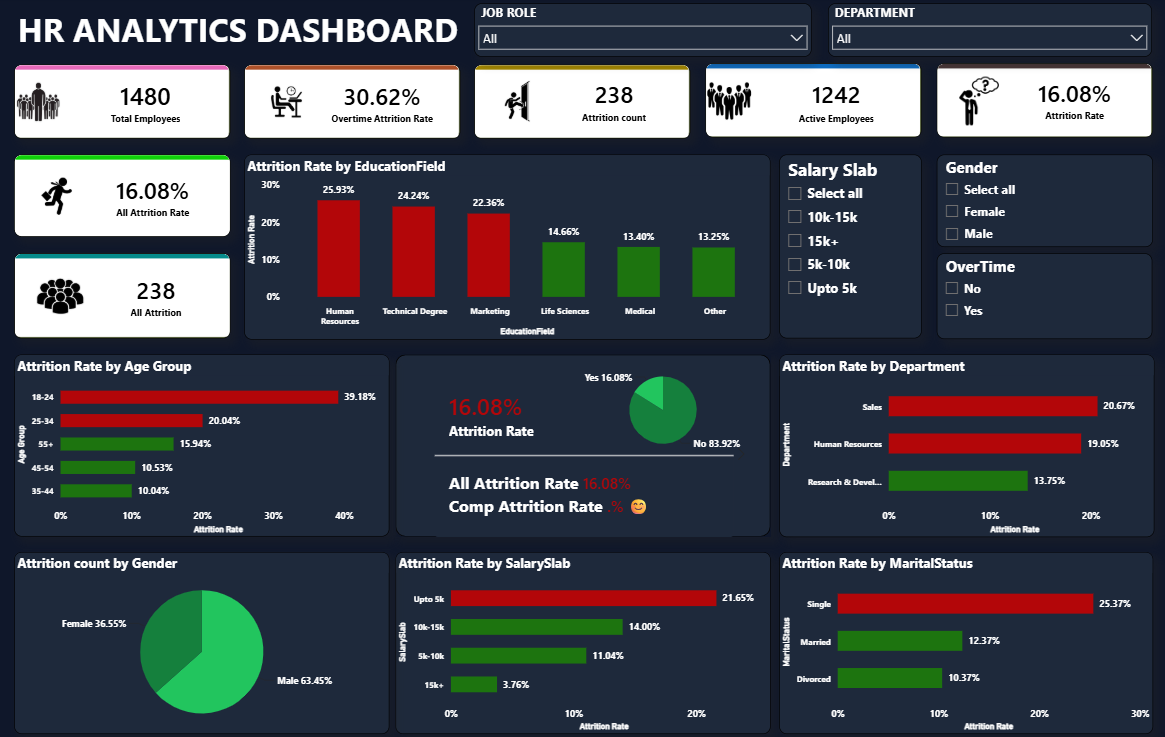

Layout of this report page (visuals, bound fields, positions):
{"tool":"powerbi","page":{"name":"HR Workforce","canvas":[1538,980],"ordinal":0},"visuals":[{"type":"textbox","box":[21.1,8.8,605.2,79.2],"z":0},{"type":"cardVisual","fields":{"Data":["Measure table.Total Employees"]},"box":[21.1,87.1,284,97.3],"z":0,"group":"g1"},{"type":"group","id":"g1","title":"Group 1","box":[21.1,86.2,1495.5,98.5],"z":1000},{"type":"cardVisual","fields":{"Data":["Measure table.Attrition Rate"]},"box":[1232.6,86.8,284,97.3],"z":1000,"group":"g1"},{"type":"slicer","fields":{"Values":["HR_Analytics.JobRole"]},"box":[625.6,8.2,443.4,70.6],"z":2000},{"type":"cardVisual","fields":{"Data":["Measure table.Active Employees"]},"box":[928.5,86.2,284,97.3],"z":2000,"group":"g1"},{"type":"slicer","fields":{"Values":["HR_Analytics.Department"]},"box":[1090.4,8.2,425.3,70.6],"z":3000},{"type":"cardVisual","fields":{"Data":["Measure table.Attrition count"]},"box":[625.7,87.4,284,97.3],"z":3000,"group":"g1"},{"type":"cardVisual","fields":{"Data":["Measure table.Overtime Attrition Rate"]},"box":[322.8,87.4,284,97.3],"z":4000,"group":"g1"},{"type":"cardVisual","fields":{"Data":["Measure table.All Attrition Rate"]},"box":[21.3,206.9,284.1,108.4],"z":4000},{"type":"lineClusteredColumnComboChart","fields":{"Category":["HR_Analytics.EducationField"],"Y":["Measure table.Attrition Rate"]},"box":[323.5,206.9,691.3,243],"z":4000},{"type":"cardVisual","fields":{"Data":["Measure table.All Attrition"]},"box":[21.3,336.6,284.1,111.7],"z":4000},{"type":"shape","box":[522.5,469.8,492.6,239.3],"z":5000},{"type":"cardVisual","fields":{"Data":["Measure table.Attrition Rate","Measure table.All Attrition Rate"]},"box":[548.5,489.3,438.4,220],"z":6000},{"type":"donutChart","fields":{"Category":["HR_Analytics.Attrition"],"Y":["Measure table.Total Employees"]},"box":[732.4,486.1,282.4,113.3],"z":7000},{"type":"clusteredBarChart","fields":{"Category":["HR_Analytics.Department"],"Y":["Measure table.Attrition Rate"]},"box":[1026.3,469.6,492.6,239.7],"z":9000},{"type":"clusteredBarChart","fields":{"Category":["HR_Analytics.Age Group"],"Y":["Measure table.Attrition Rate"]},"box":[21.1,469.8,492.6,239.3],"z":10000},{"type":"slicer","fields":{"Values":["HR_Analytics.Salary Slab"]},"box":[1026.3,206.9,187.2,241.4],"z":11000},{"type":"clusteredBarChart","fields":{"Category":["HR_Analytics.SalarySlab"],"Y":["Measure table.Attrition Rate"]},"box":[522.5,728.4,492.6,239.3],"z":12000},{"type":"clusteredBarChart","fields":{"Category":["HR_Analytics.MaritalStatus"],"Y":["Measure table.Attrition Rate"]},"box":[1025.7,728.4,490.9,239.3],"z":13000},{"type":"pieChart","fields":{"Category":["HR_Analytics.Gender"],"Y":["Measure table.Attrition count"]},"box":[21.1,728.4,492.6,239.3],"z":14000},{"type":"slicer","fields":{"Values":["HR_Analytics.Gender"]},"box":[1233.2,206.9,284.1,121.5],"z":15000},{"type":"slicer","fields":{"Values":["HR_Analytics.OverTime"]},"box":[1233.3,336,283.3,112.6],"z":16000}]}

Visuals, with their boxes in screenshot pixels (x1, y1, x2, y2), scaled from the page's 1538x980 canvas onto the 1165x737 screenshot:
textbox: 16,7,474,66
cardVisual - Measure table.Total Employees: 16,66,231,139
"Group 1" group: 16,65,1149,139
cardVisual - Measure table.Attrition Rate: 934,65,1149,138
slicer - HR_Analytics.JobRole: 474,6,810,59
cardVisual - Measure table.Active Employees: 703,65,918,138
slicer - HR_Analytics.Department: 826,6,1148,59
cardVisual - Measure table.Attrition count: 474,66,689,139
cardVisual - Measure table.Overtime Attrition Rate: 245,66,460,139
cardVisual - Measure table.All Attrition Rate: 16,156,231,237
lineClusteredColumnComboChart - HR_Analytics.EducationField x Measure table.Attrition Rate: 245,156,769,338
cardVisual - Measure table.All Attrition: 16,253,231,337
shape: 396,353,769,533
cardVisual - Measure table.Attrition Rate x Measure table.All Attrition Rate: 415,368,748,533
donutChart - HR_Analytics.Attrition x Measure table.Total Employees: 555,366,769,451
clusteredBarChart - HR_Analytics.Department x Measure table.Attrition Rate: 777,353,1151,533
clusteredBarChart - HR_Analytics.Age Group x Measure table.Attrition Rate: 16,353,389,533
slicer - HR_Analytics.Salary Slab: 777,156,919,337
clusteredBarChart - HR_Analytics.SalarySlab x Measure table.Attrition Rate: 396,548,769,728
clusteredBarChart - HR_Analytics.MaritalStatus x Measure table.Attrition Rate: 777,548,1149,728
pieChart - HR_Analytics.Gender x Measure table.Attrition count: 16,548,389,728
slicer - HR_Analytics.Gender: 934,156,1149,247
slicer - HR_Analytics.OverTime: 934,253,1149,337
